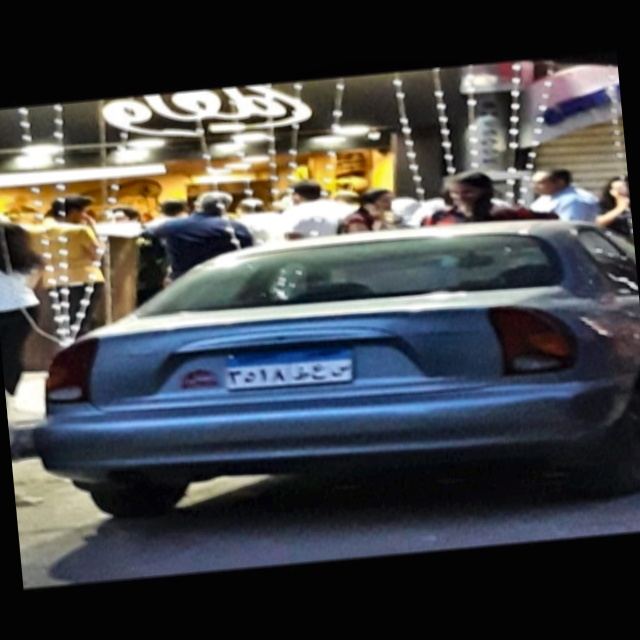License Plate: (217, 341, 358, 393)
